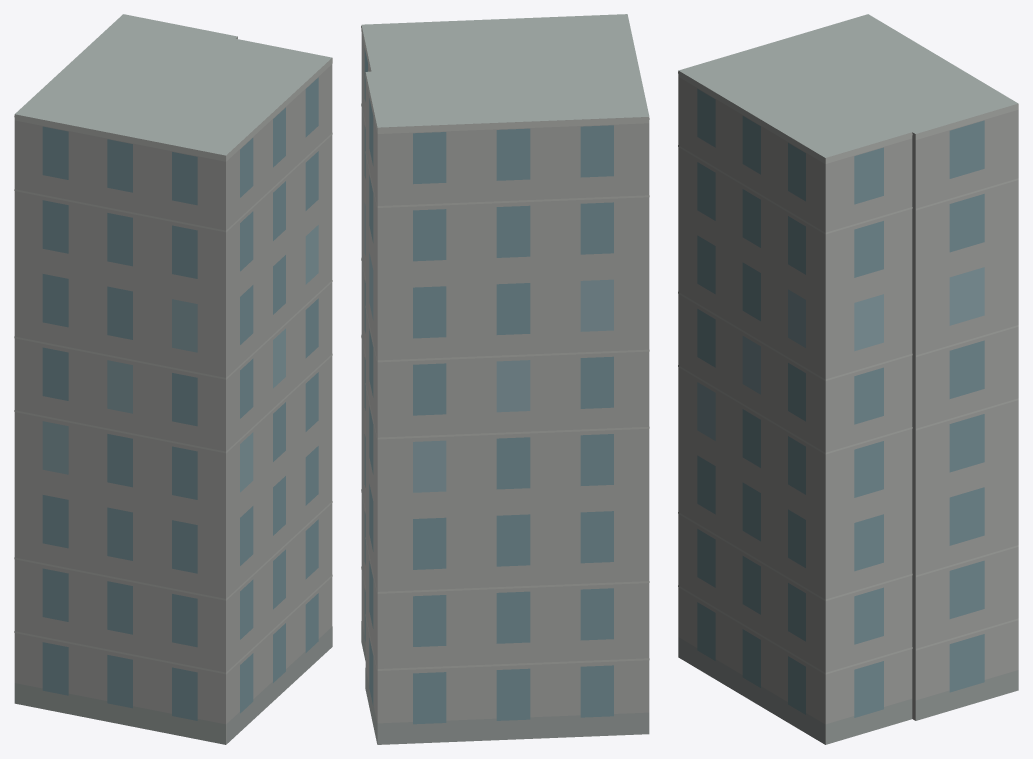
Rendered from survey-upis-33016963.glb.
3 views of the same model, side by side, from view 1: azimuth 30°, elevation 25°; view 2: azimuth 150°, elevation 25°; view 3: azimuth 270°, elevation 25° (orthographic). The views are drawn at different scales.
Parts seen in each view (by area): view 1: survey-upis-33016963.tmp; view 2: survey-upis-33016963.tmp; view 3: survey-upis-33016963.tmp.
Boxes of the visible parts, bbox=[...] form: survey-upis-33016963.tmp: bbox=[14, 14, 332, 744]; survey-upis-33016963.tmp: bbox=[361, 14, 649, 744]; survey-upis-33016963.tmp: bbox=[678, 14, 1018, 744].
Bounding box in the file's own units: 12.23 × 23.2 × 12.21.
